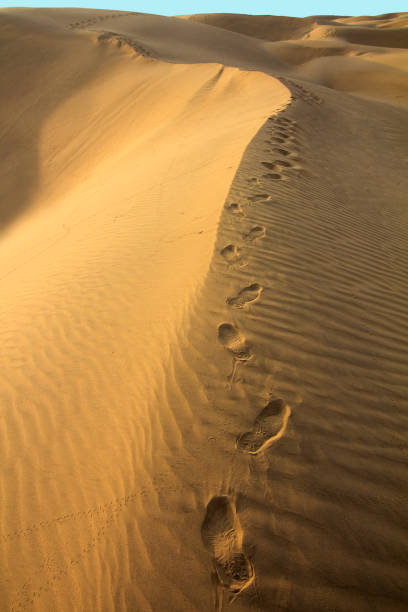human_foot_print: (201, 495, 254, 611), (236, 399, 290, 453), (218, 323, 252, 387), (226, 283, 263, 308), (220, 244, 246, 266), (242, 225, 265, 241)
